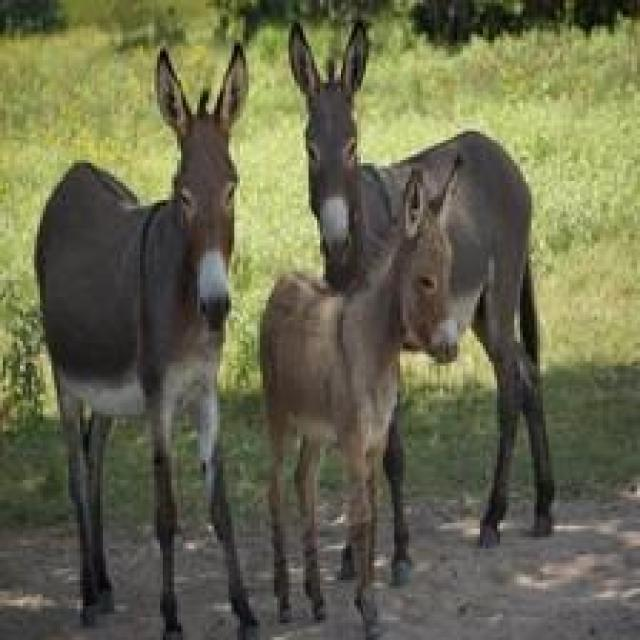Donkey: (286, 17, 554, 557), (31, 40, 260, 637), (257, 154, 463, 637)
